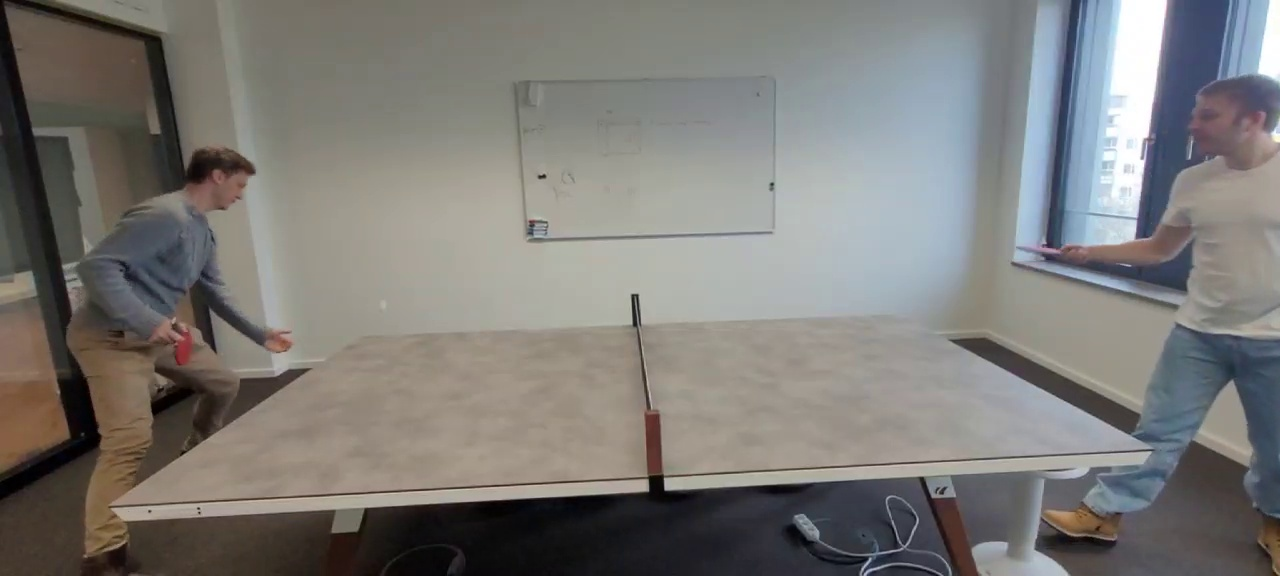1: (170, 318, 192, 365), (1016, 247, 1060, 255)
2: (378, 301, 388, 311)
ttplatte: (108, 312, 1152, 507)
